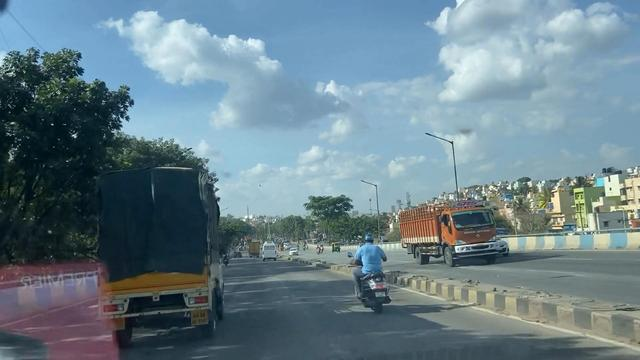HMV: (95, 154, 225, 347)
LMV: (343, 229, 393, 309)
